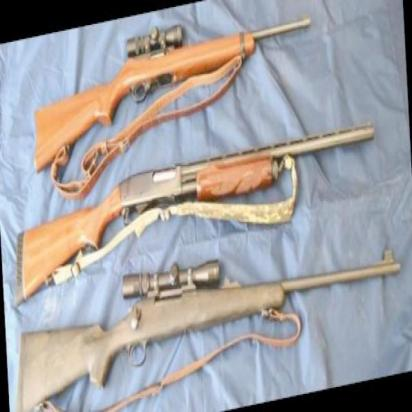Gun: (8, 213, 402, 412), (4, 119, 384, 296), (29, 0, 316, 176)
